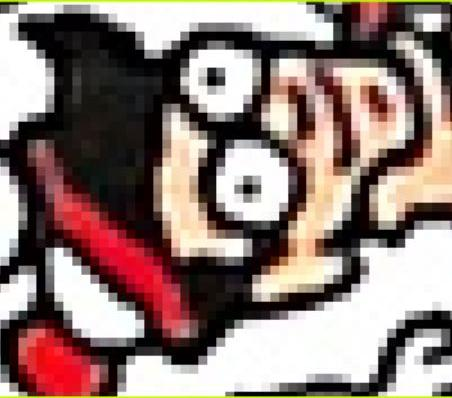waldos: (4, 12, 449, 394)
